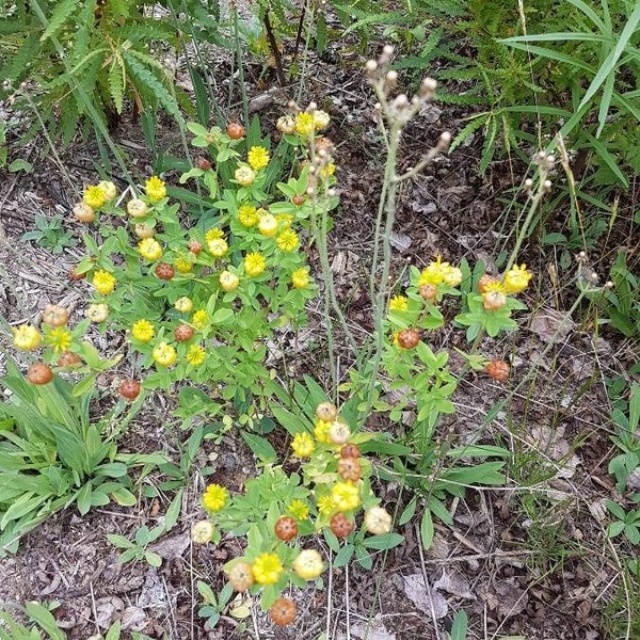obstacle: (83, 83, 300, 402), (369, 245, 546, 511), (169, 415, 379, 606), (11, 308, 124, 517), (495, 19, 630, 193)
